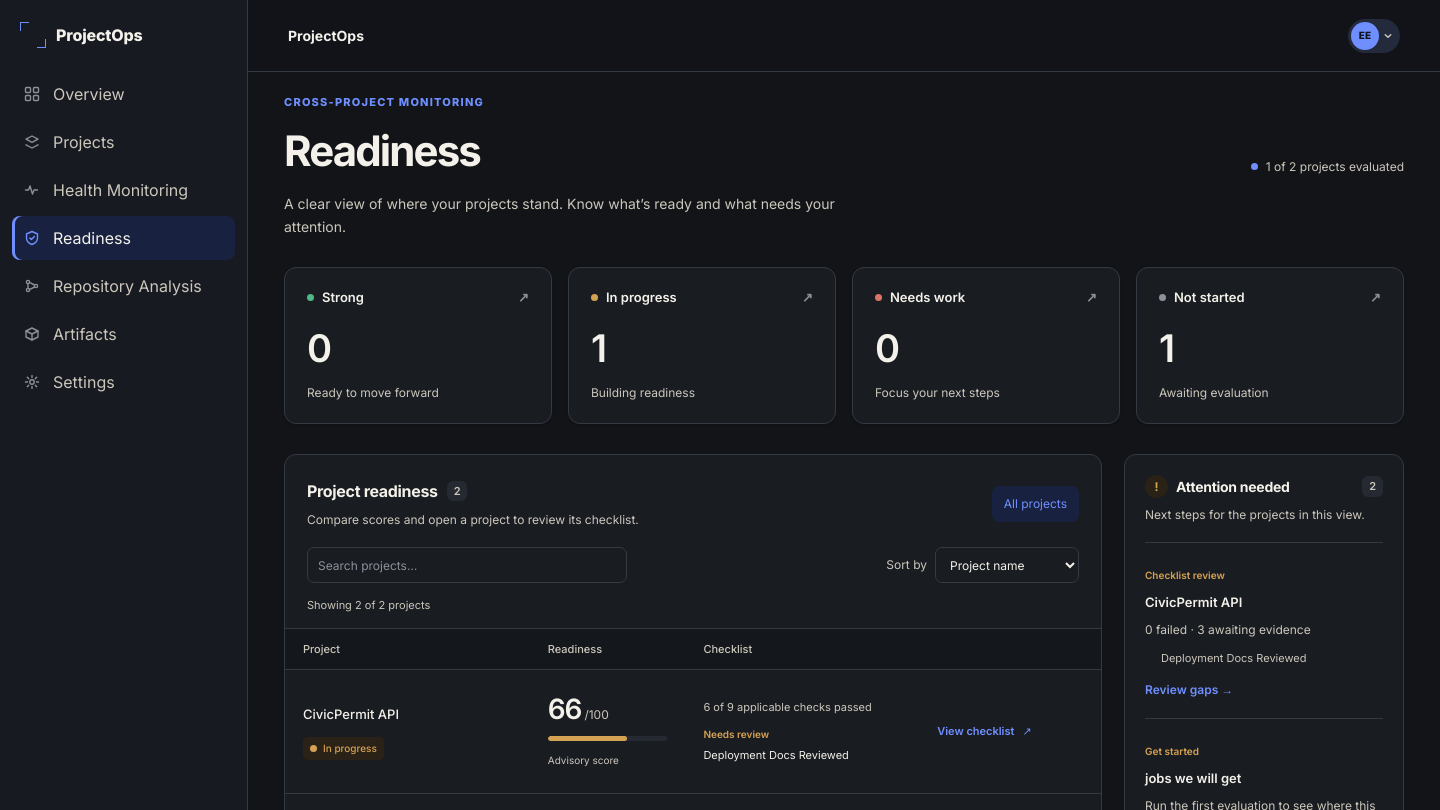
Scenario: Cross-project Readiness page › searches and sorts scores with unevaluated projects first
Select "Lowest score first" in the dropdown labelled "Sort by" at (1007, 565), box [935,547,1079,583]
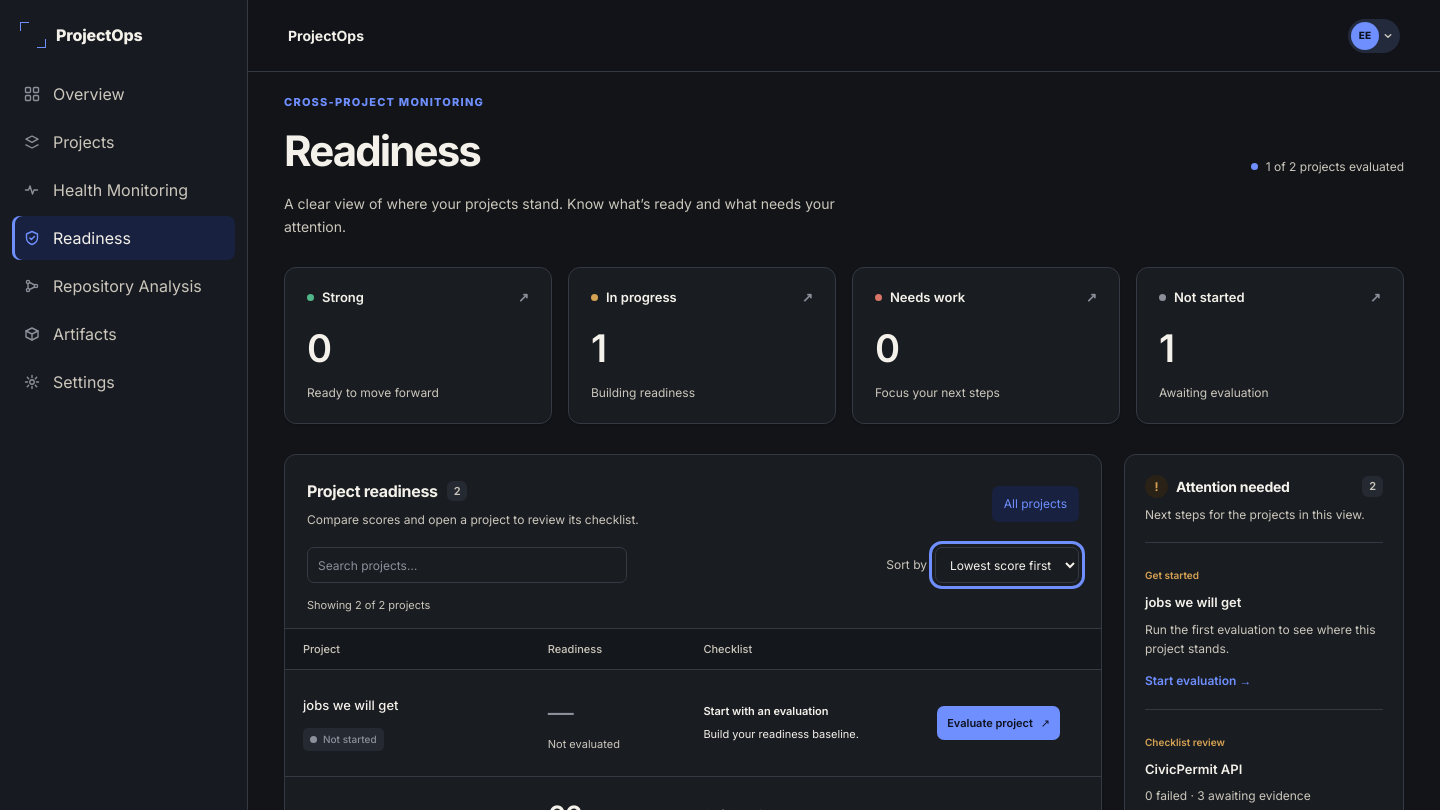
Expected: the row that starts with "jobs we will get" is shown, [303,695,512,716]
Type "civic" into the search field labelled "Search projects" at (467, 565), box [307,547,627,583]
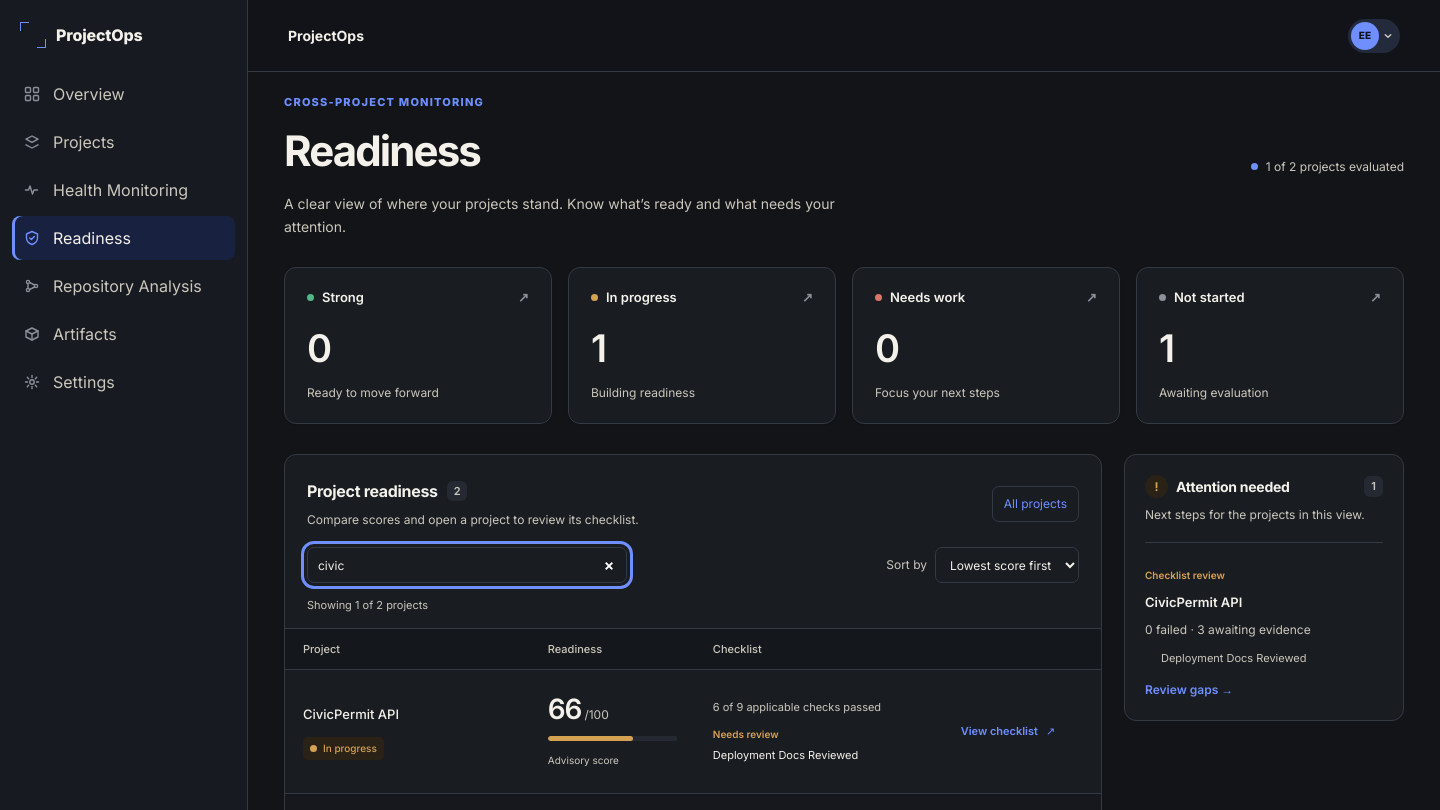
Expected: the number of rows is 2, [285,628,1101,670]; [285,670,1101,793]
Expected: the link "jobs we will get" is gone
